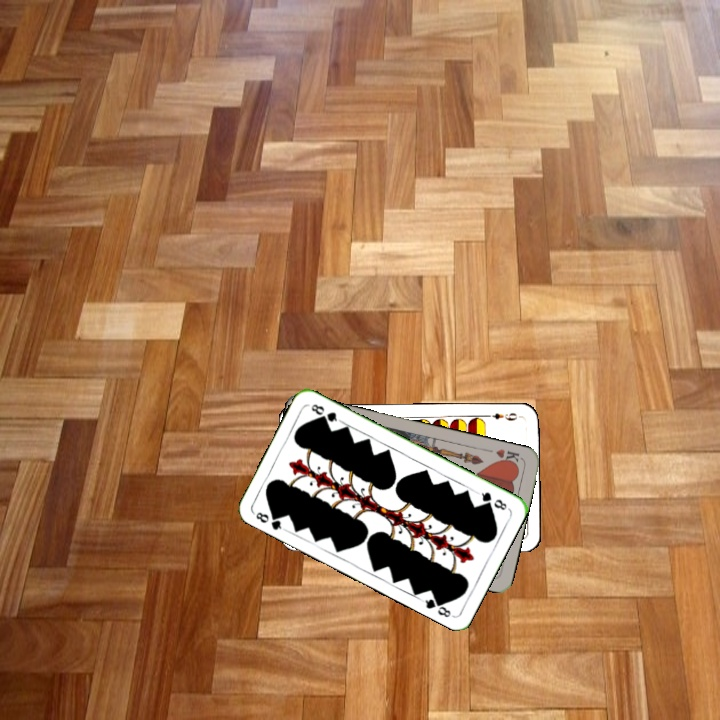E9: (483, 409, 523, 423)
G8: (250, 508, 288, 533), (477, 488, 510, 513)
HK: (492, 445, 524, 468)
